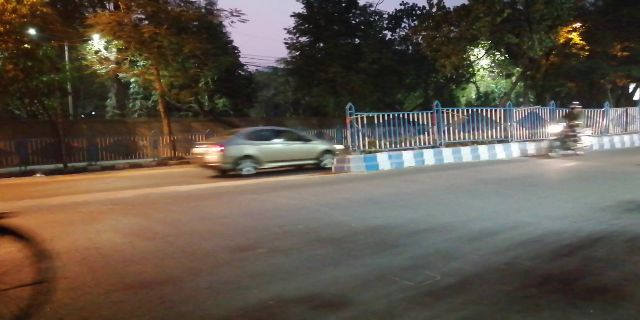Car: (189, 123, 334, 180)
Motorbike: (530, 101, 592, 158)
